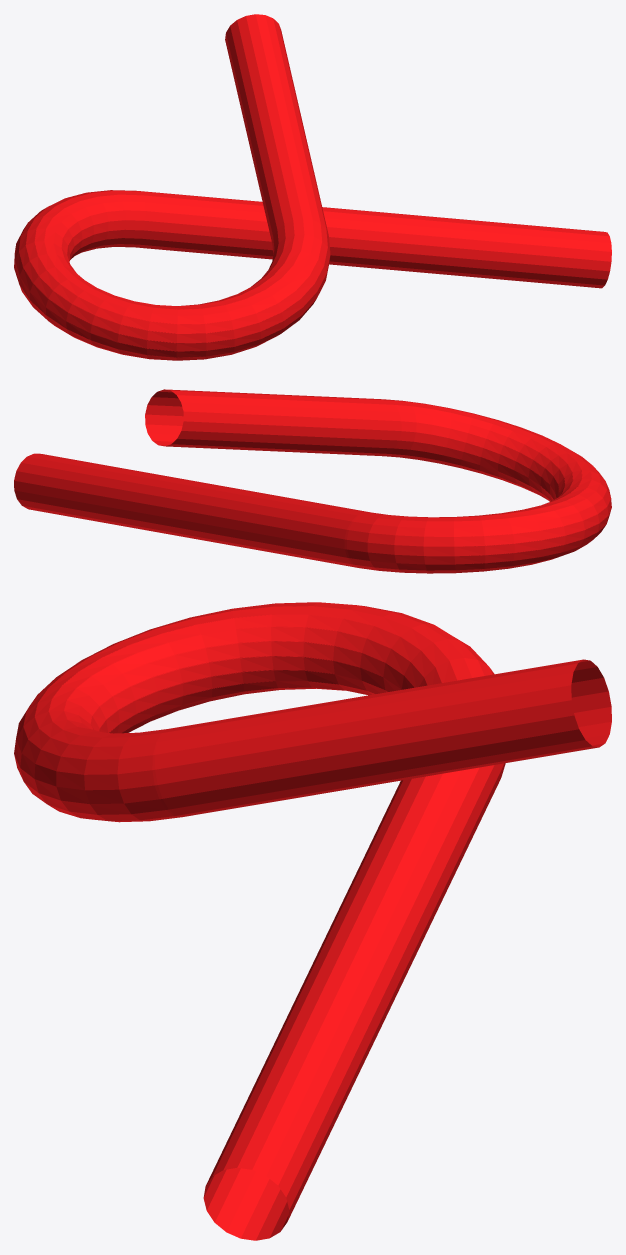
The model's file is alpha_robot.dae.
3 renders of one model, top to bottom at view 1: azimuth 30°, elevation 25°; view 2: azimuth 150°, elevation 25°; view 3: azimuth 270°, elevation 25°, orthographic. The views are drawn at different scales.
Parts seen in each view (by area): view 1: instance_0; view 2: instance_0; view 3: instance_0.
Boxes of the visible parts, left/top/right/bottom form: instance_0: left=14, top=14, right=611, bottom=360; instance_0: left=14, top=389, right=611, bottom=573; instance_0: left=14, top=602, right=611, bottom=1240.
Bounding box in the file's own units: 245 × 142 × 104.
